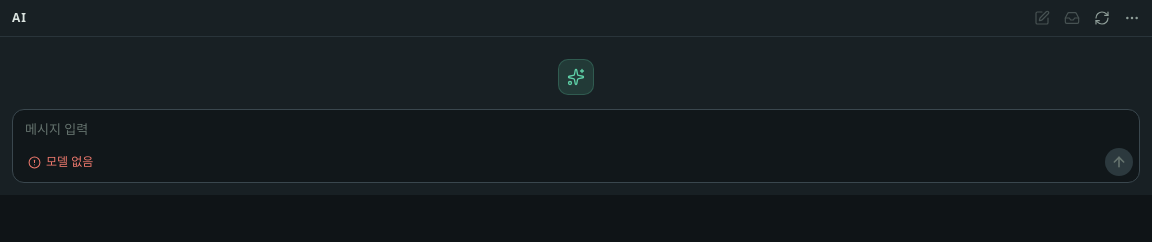
it: 조회 승인 차단을 메뉴에서 켜고 끄며 저장 중에는 다시 누를 수 없다
The image size is (1152, 242).
Click the button named "더보기".
click(1132, 18)  # box [1118, 4, 1146, 32]
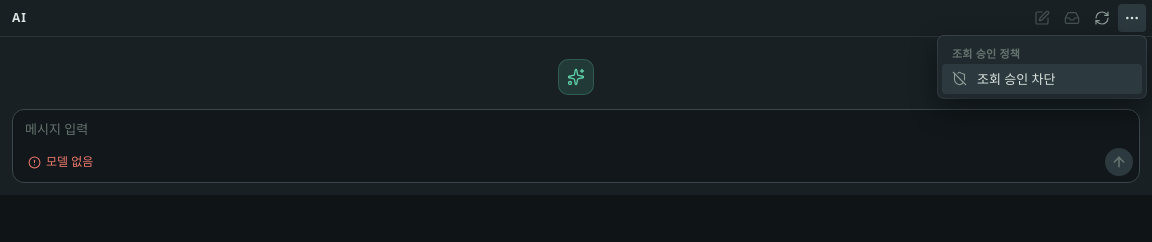
Expected: the menu item "조회 승인 차단" is shown
Click the menu item "조회 승인 차단".
click(1042, 79)  # box [942, 64, 1142, 94]
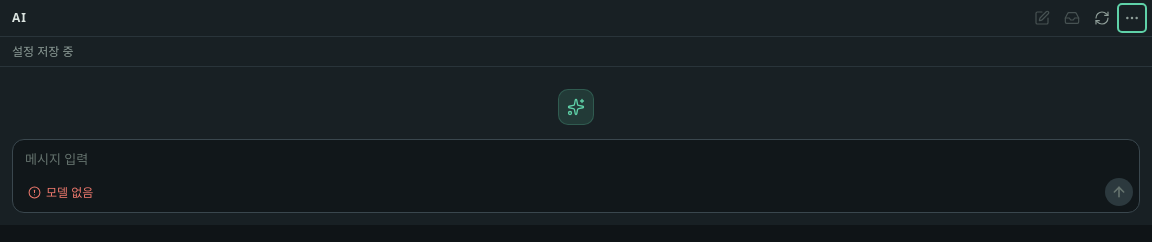
Expected: the message "설정 저장 중" is shown, [12, 43, 74, 60]
Click the button named "더보기".
click(1132, 18)  # box [1118, 4, 1146, 32]
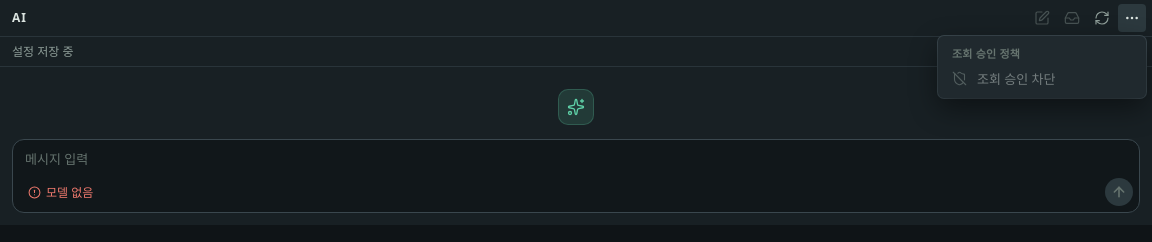
Expected: the menu item "조회 승인 차단" is disabled, [942, 64, 1142, 94]
Press Escape in the menu, box [938, 36, 1146, 98]
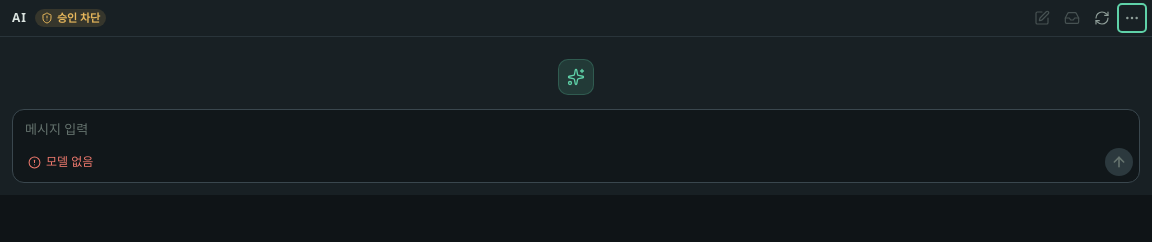
Expected: the element with class "a01-head-badge" reads "승인 차단", [57, 10, 100, 25]
Click the button named "더보기".
click(1132, 18)  # box [1118, 4, 1146, 32]
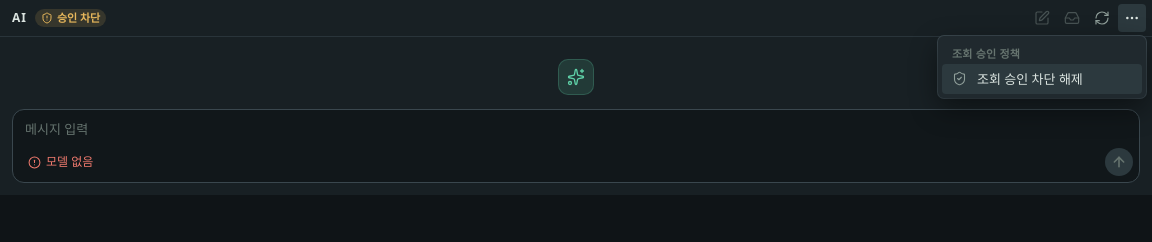
Expected: the menu item "조회 승인 차단 해제" is shown
Click the menu item "조회 승인 차단 해제".
click(1042, 79)  # box [942, 64, 1142, 94]
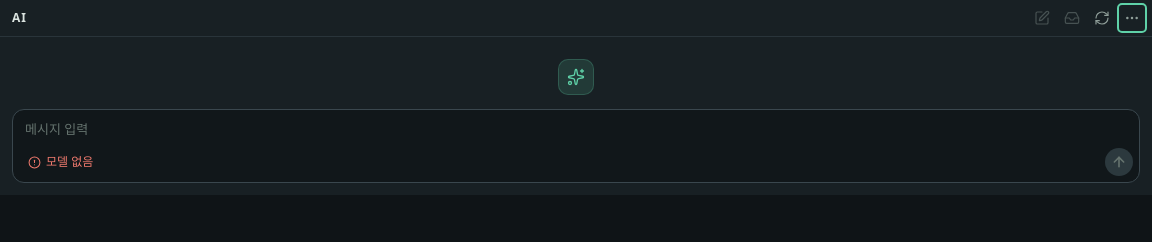
Expected: the element with class "a01-head-badge" is gone
